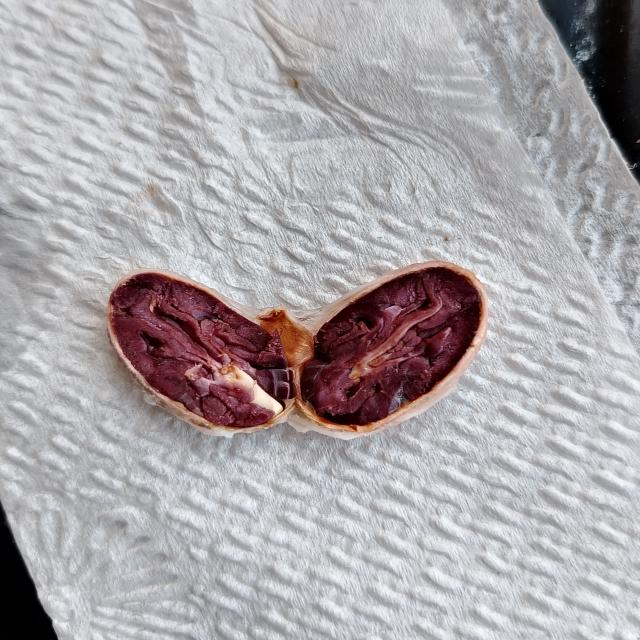Forastero: (304, 261, 496, 440), (107, 275, 300, 430)
